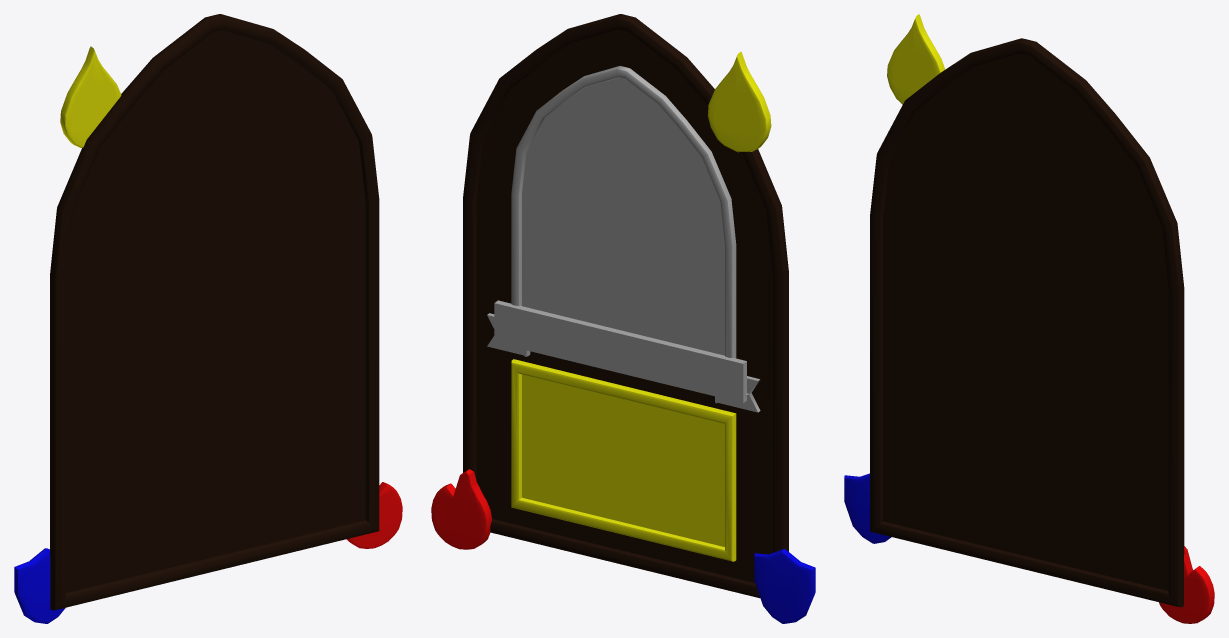
The model's file is CardTrygood.fbx.
3 renders of one model, left to right at view 1: azimuth 30°, elevation 25°; view 2: azimuth 150°, elevation 25°; view 3: azimuth 330°, elevation 25°, orthographic. The views are drawn at different scales.
Parts seen in each view (by area): view 1: front2; view 2: front2; view 3: front2.
Part boxes in pixels (left/top/right/bottom): front2: left=14, top=14, right=402, bottom=623; front2: left=431, top=14, right=815, bottom=623; front2: left=844, top=14, right=1214, bottom=623.
Bounding box in the file's own units: 5.83 × 8.27 × 0.2897.
